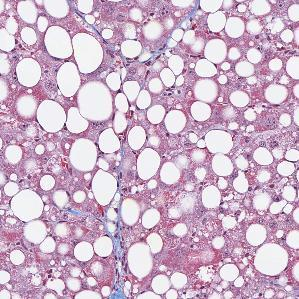fibrosis: (109, 212, 132, 284)
